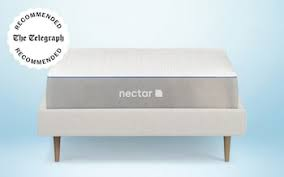bed-matress: (42, 43, 243, 109)
